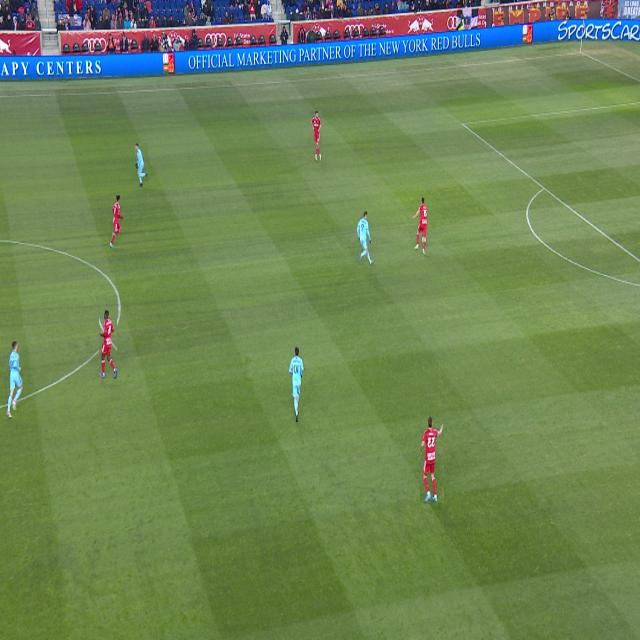football: (422, 236, 426, 243)
player: (421, 417, 444, 503), (6, 341, 23, 418), (100, 311, 117, 379), (289, 347, 304, 422), (356, 211, 374, 265), (412, 198, 427, 256), (110, 196, 123, 248), (135, 143, 148, 187), (311, 112, 322, 161)
